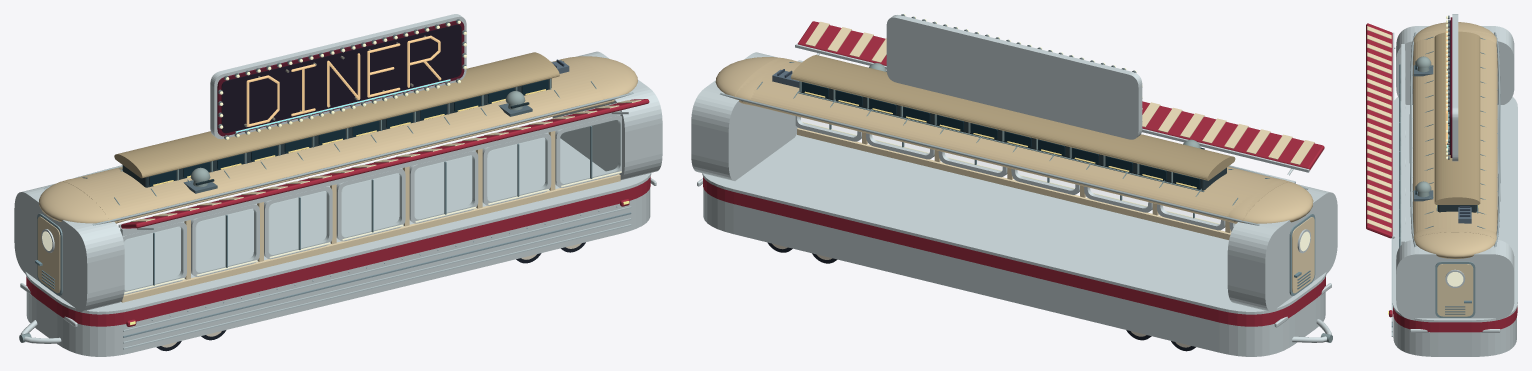
The model's file is car-stage.glb.
3 renders of one model, left to right at view 1: azimuth 30°, elevation 25°; view 2: azimuth 150°, elevation 25°; view 3: azimuth 270°, elevation 25°, orthographic. The views are drawn at different scales.
Parts seen in each view (by area): view 1: car-body; view 2: car-body; view 3: car-body.
Boxes of the visible parts, x1,y1,x2,y2 form: car-body: (14,14,662,356); car-body: (691,14,1337,356); car-body: (1366,14,1517,356).
Size of the model in its own units: 12.99 by 4.74 by 3.44.
